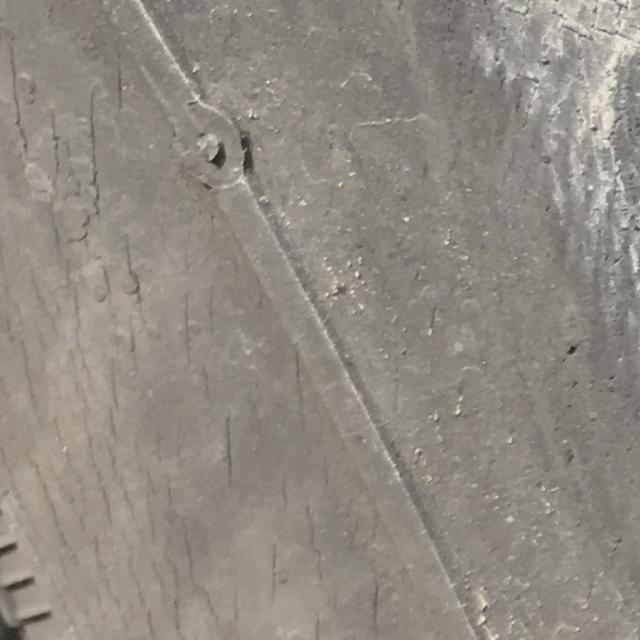Cracks: (0, 0, 477, 639)
